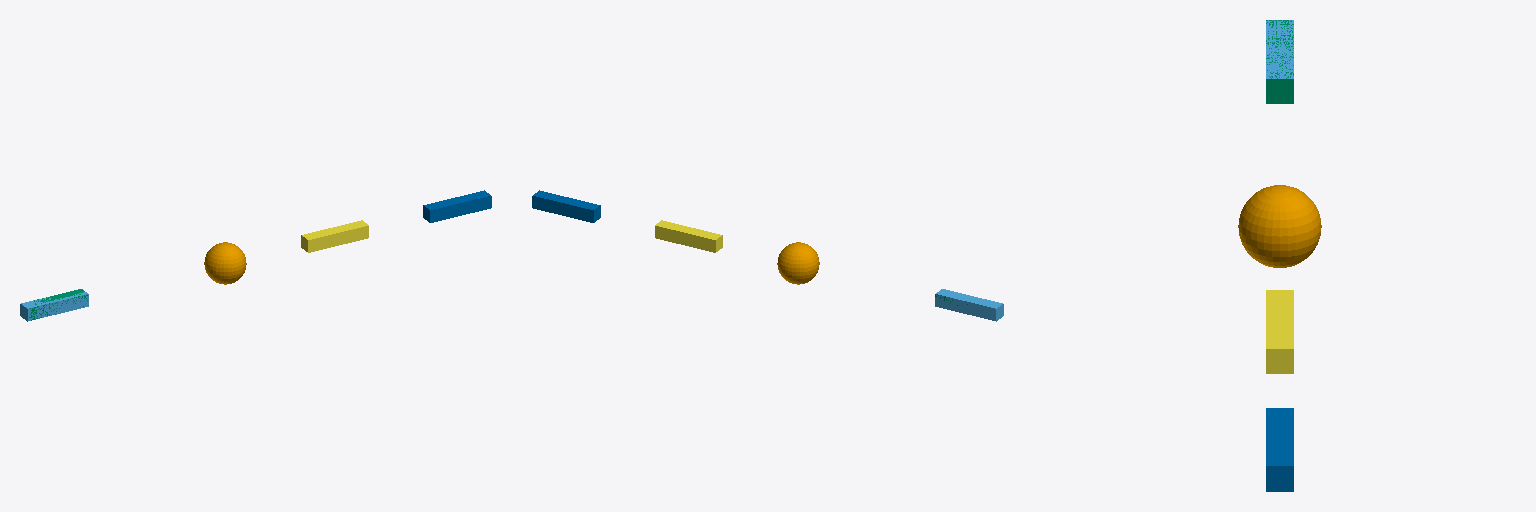
URDF robot description (satellite):
<robot name="satellite">

  <!-- Base -->
  <link name="base">
    <inertial>
      <origin xyz="0 0 0" rpy="0 0 0"/>
      <mass value="1.0"/>
      <inertia ixx="0.01" iyy="0.01" izz="0.01" ixy="0.0" ixz="0.0" iyz="0.0"/>
    </inertial>
    <visual>
      <geometry>
        <mesh filename="assets/base.stl" scale="1 1 1"/>
      </geometry>
    </visual>
    <collision>
      <geometry>
        <mesh filename="assets/base.stl" scale="1 1 1"/>
      </geometry>
    </collision>
  </link>

  <!-- Link1 -->
  <link name="link1">
    <inertial>
      <origin xyz="0 0 0" rpy="0 0 0"/>
      <mass value="0.5"/>
      <inertia ixx="0.005" iyy="0.005" izz="0.005" ixy="0.0" ixz="0.0" iyz="0.0"/>
    </inertial>
    <visual>
      <geometry>
        <mesh filename="assets/link1.stl" scale="1 1 1"/>
      </geometry>
    </visual>
    <collision>
      <geometry>
        <mesh filename="assets/link1.stl" scale="1 1 1"/>
      </geometry>
    </collision>
  </link>

  <!-- Link2 -->
  <link name="link2">
    <inertial>
      <origin xyz="0 0 0" rpy="0 0 0"/>
      <mass value="0.5"/>
      <inertia ixx="0.005" iyy="0.005" izz="0.005" ixy="0.0" ixz="0.0" iyz="0.0"/>
    </inertial>
    <visual>
      <geometry>
        <mesh filename="assets/link2.stl" scale="1 1 1"/>
      </geometry>
    </visual>
    <collision>
      <geometry>
        <mesh filename="assets/link2.stl" scale="1 1 1"/>
      </geometry>
    </collision>
  </link>

  <!-- Link3 -->
  <link name="link3">
    <inertial>
      <origin xyz="0 0 0" rpy="0 0 0"/>
      <mass value="0.5"/>
      <inertia ixx="0.005" iyy="0.005" izz="0.005" ixy="0.0" ixz="0.0" iyz="0.0"/>
    </inertial>
    <visual>
      <geometry>
        <mesh filename="assets/link3.stl" scale="1 1 1"/>
      </geometry>
    </visual>
    <collision>
      <geometry>
        <mesh filename="assets/link3.stl" scale="1 1 1"/>
      </geometry>
    </collision>
  </link>

  <!-- Link4 -->
  <link name="link4">
    <inertial>
      <origin xyz="0 0 0" rpy="0 0 0"/>
      <mass value="0.5"/>
      <inertia ixx="0.005" iyy="0.005" izz="0.005" ixy="0.0" ixz="0.0" iyz="0.0"/>
    </inertial>
    <visual>
      <geometry>
        <mesh filename="assets/link4.stl" scale="1 1 1"/>
      </geometry>
    </visual>
    <collision>
      <geometry>
        <mesh filename="assets/link4.stl" scale="1 1 1"/>
      </geometry>
    </collision>
  </link>

  <!-- Joints -->
  <joint name="j1" type="revolute">
    <parent link="base"/>
    <child link="link1"/>
    <origin xyz="-0.25 0 0" rpy="0 0 0"/>
    <axis xyz="0 1 0"/>
    <limit lower="-1.57" upper="1.57" effort="1.0" velocity="1.0"/>
  </joint>

  <joint name="j2" type="revolute">
    <parent link="link1"/>
    <child link="link2"/>
    <origin xyz="-0.25 0 0" rpy="0 0 0"/>
    <axis xyz="0 1 0"/>
    <limit lower="-1.57" upper="1.57" effort="1.0" velocity="1.0"/>
  </joint>

  <joint name="j3" type="revolute">
    <parent link="base"/>
    <child link="link3"/>
    <origin xyz="0.25 0 0" rpy="0 0 0"/>
    <axis xyz="0 1 0"/>
    <limit lower="-1.57" upper="1.57" effort="1.0" velocity="1.0"/>
  </joint>

  <joint name="j4" type="revolute">
    <parent link="link3"/>
    <child link="link4"/>
    <origin xyz="0.25 0 0" rpy="0 0 0"/>
    <axis xyz="0 1 0"/>
    <limit lower="-1.57" upper="1.57" effort="1.0" velocity="1.0"/>
  </joint>

</robot>

--- Render facts (derived) ---
3 views of the same robot in one strip: view 1: azimuth 30°, elevation 25°; view 2: azimuth 150°, elevation 25°; view 3: azimuth 270°, elevation 25° (orthographic).
Robot: satellite — 5 links, 4 joints (4 revolute); root link base; default pose: every joint at zero.
Links seen in each view (by area): view 1: base, link4, link3, link1; view 2: base, link4, link3, link1; view 3: base, link3, link4, link1, link2.
Link boxes in pixels (left/top/right/bottom): base: left=204, top=242, right=246, bottom=284; link4: left=423, top=190, right=491, bottom=222; link3: left=301, top=220, right=368, bottom=252; link1: left=20, top=292, right=88, bottom=321; base: left=777, top=242, right=819, bottom=284; link4: left=532, top=190, right=600, bottom=222; link3: left=655, top=220, right=722, bottom=252; link1: left=935, top=289, right=1003, bottom=321; base: left=1238, top=185, right=1321, bottom=267; link3: left=1266, top=290, right=1293, bottom=373; link4: left=1266, top=408, right=1293, bottom=491; link1: left=1266, top=20, right=1293, bottom=78; link2: left=1266, top=20, right=1293, bottom=103.
Size in the robot's own frame: 1.9 by 0.15 by 0.15 metres.
Meshes: 5 distinct files referenced, 5 mesh visuals loaded (5 binary STL).
